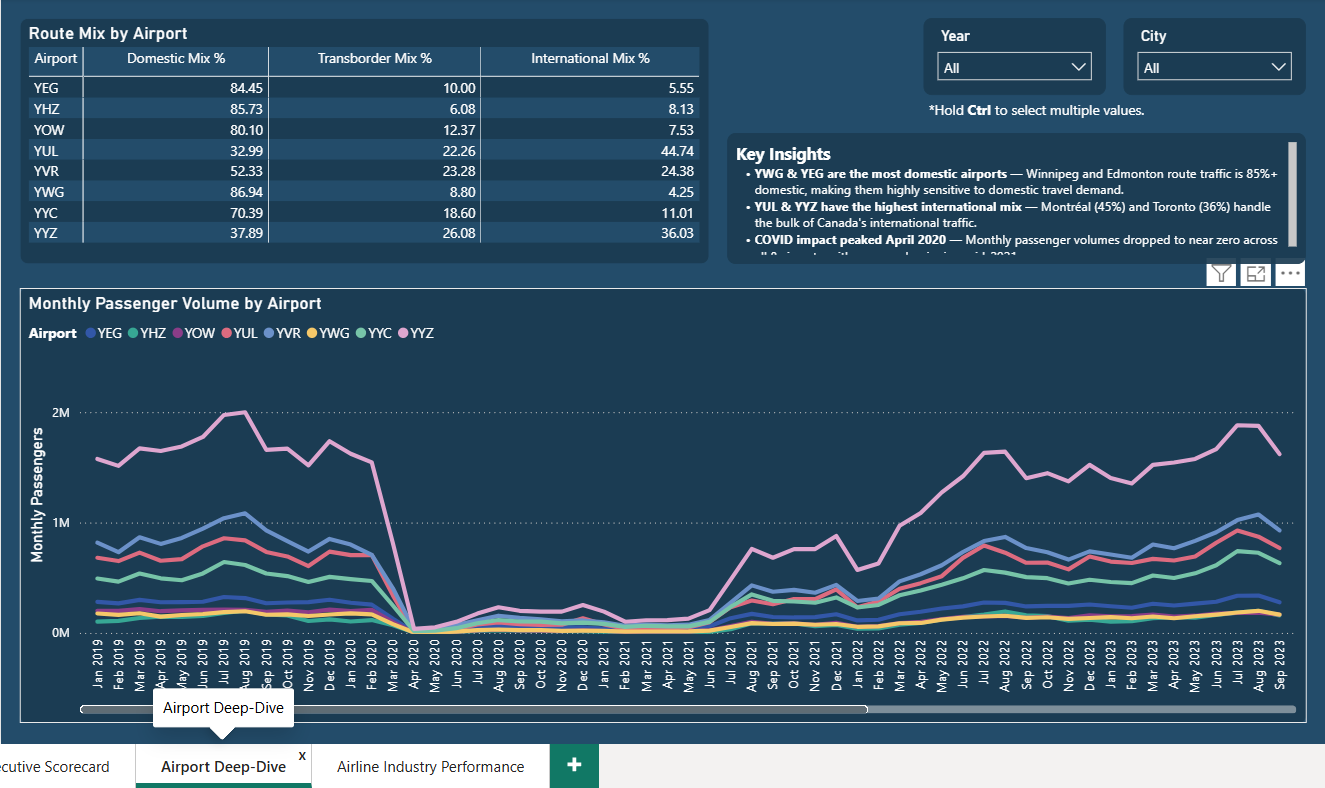

Layout of this report page (visuals, bound fields, positions):
{"tool":"powerbi","page":{"name":"Airport Deep-Dive","canvas":[1280,720],"ordinal":1},"visuals":[{"type":"lineChart","title":"Monthly Passenger Volume by Airport","fields":{"Y":["Sum(fact_airport_monthly.total_pax)"],"Series":["dim_airport.iata_code"],"Category":["dim_date.year_month_label"]},"box":[18.1,279.9,1241.4,419.8],"z":0},{"type":"pivotTable","title":"Route Mix by Airport","fields":{"Rows":["dim_airport.iata_code"],"Values":["fact_airport_annual.Domestic Mix %","fact_airport_annual.Transborder Mix %","fact_airport_annual.International Mix %"]},"box":[18.1,19.3,666,237.7],"z":1000},{"type":"slicer","fields":{"Values":["dim_date.year"]},"box":[890.4,19.3,176.1,74.8],"z":2000},{"type":"slicer","fields":{"Values":["dim_airport.city"]},"box":[1083.4,19.3,176.1,74.8],"z":3000},{"type":"textbox","box":[890.4,94.1,229.2,36.2],"z":4000},{"type":"textbox","box":[700.9,130.3,558.6,126.7],"z":5000}]}

Visuals, with their boxes on the page's 1280x720 design canvas (x1, y1, x2, y2). These are canvas units, not pixel positions in the 1325x788 screenshot, which may show the page scaled, cropped or inside an application window:
"Monthly Passenger Volume by Airport" lineChart: x1=18 y1=280 x2=1260 y2=700
"Route Mix by Airport" pivotTable: x1=18 y1=19 x2=684 y2=257
slicer - dim_date.year: x1=890 y1=19 x2=1066 y2=94
slicer - dim_airport.city: x1=1083 y1=19 x2=1260 y2=94
textbox: x1=890 y1=94 x2=1120 y2=130
textbox: x1=701 y1=130 x2=1260 y2=257
